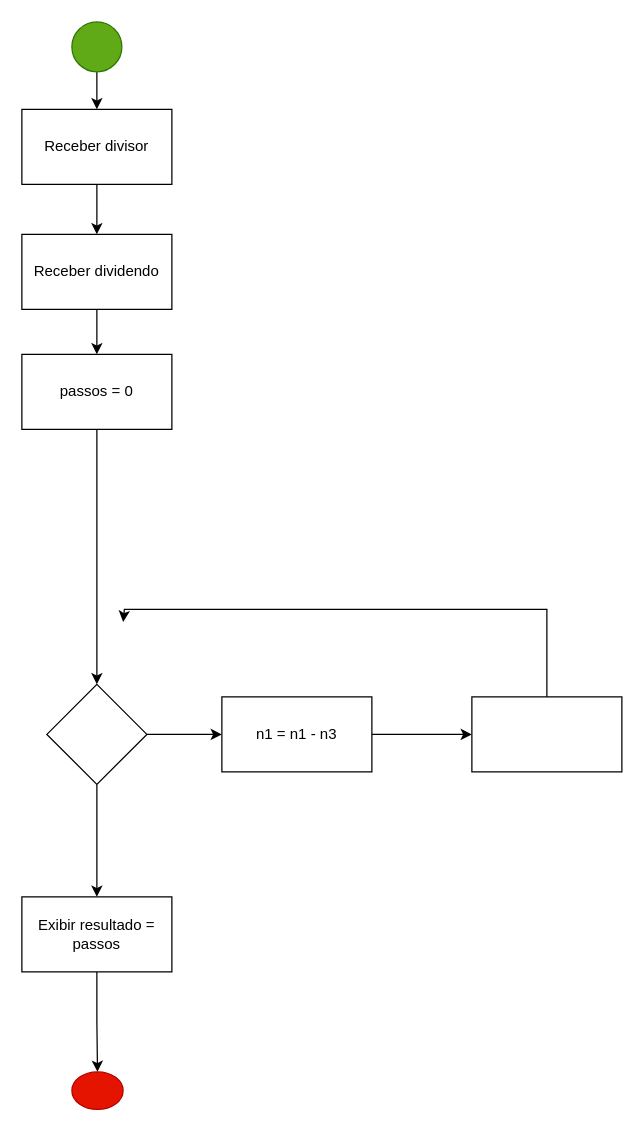
Image size: 644x1131. Some labels were removed from this diagram. The centre of each missing label's shape, as x and y in pixels:
"n1 >= n2" belongs at pixel 96 733.
"passos = passso + 1" belongs at pixel 546 734.
